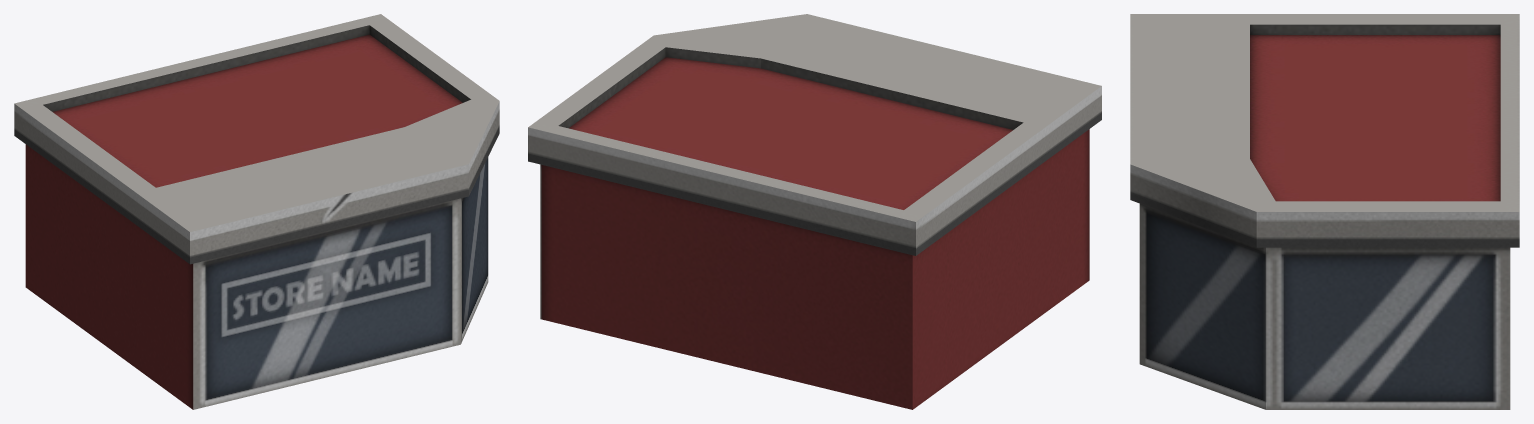
File: House_StoreGlassWindows.FBX
3 views of the same model, side by side, from view 1: azimuth 30°, elevation 25°; view 2: azimuth 150°, elevation 25°; view 3: azimuth 270°, elevation 25° (orthographic). The views are drawn at different scales.
Visible parts, largest first — view 1: Base003; view 2: Base003; view 3: Base003.
Boxes of the visible parts, left/top/right/bottom form: Base003: left=14, top=14, right=499, bottom=409; Base003: left=528, top=14, right=1101, bottom=409; Base003: left=1130, top=14, right=1519, bottom=409.
Bounding box in the file's own units: 521 × 248 × 432.
